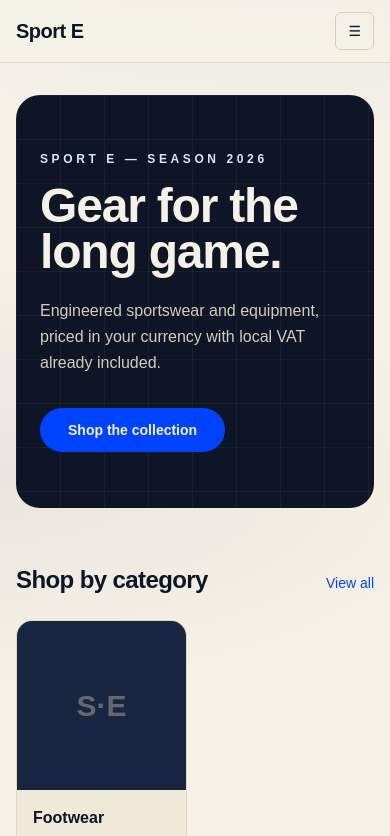
Test case: keeps the desktop header below lg behind the hamburger menu
This screenshot has width=390, height=836.
Click the button "☰".
click(355, 31)  # box [335,12,374,50]
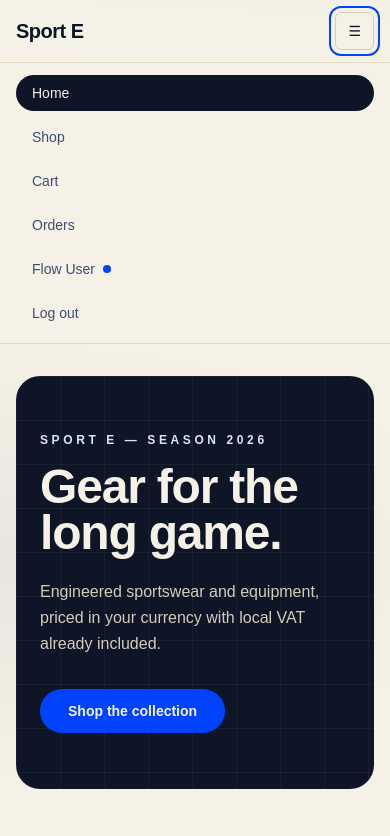
expect the link "Flow User" is shown: met, box [32,261,111,277]
